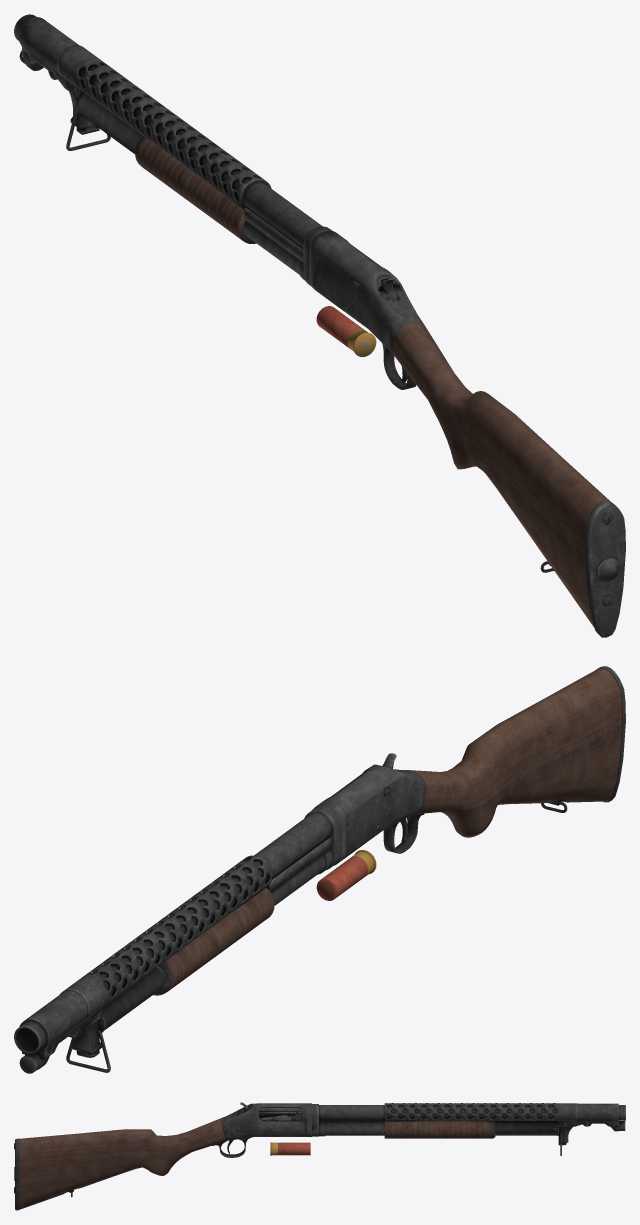
File: winchester_model_1897.glb
3 views of the same model, one above another, from view 1: azimuth 30°, elevation 25°; view 2: azimuth 150°, elevation 25°; view 3: azimuth 270°, elevation 25° (orthographic). The views are drawn at different scales.
Parts seen in each view (by area): view 1: m 97, m 97 add1, 12 cal; view 2: m 97, m 97 add1, 12 cal; view 3: m 97, m 97 add1, 12 cal, m 97 add2.
Part boxes in pixels (box(x1,y1,x2,y2)): m 97: box(14, 14, 625, 637); m 97 add1: box(135, 136, 395, 288); 12 cal: box(316, 306, 376, 357); m 97: box(14, 666, 625, 1073); m 97 add1: box(153, 836, 331, 995); 12 cal: box(316, 850, 376, 900); m 97: box(14, 1103, 625, 1210); m 97 add1: box(247, 1105, 495, 1138); 12 cal: box(270, 1142, 310, 1155); m 97 add2: box(237, 1109, 298, 1120).
Bounding box in the file's own units: 0.044 × 0.1922 × 0.9992.
Materials: 3 (3 with a texture image).
